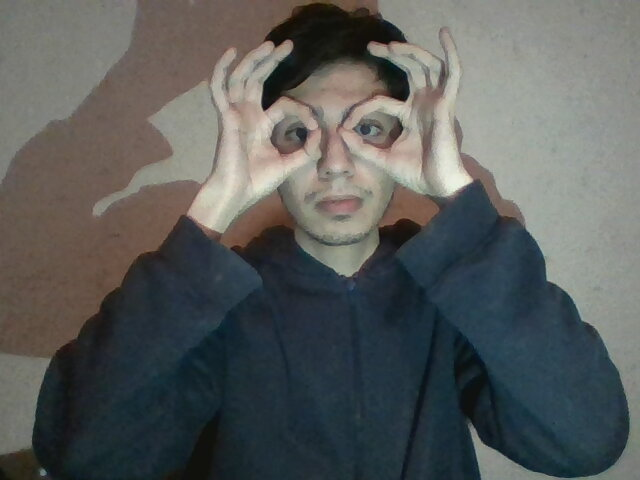buho: (183, 28, 504, 212)
